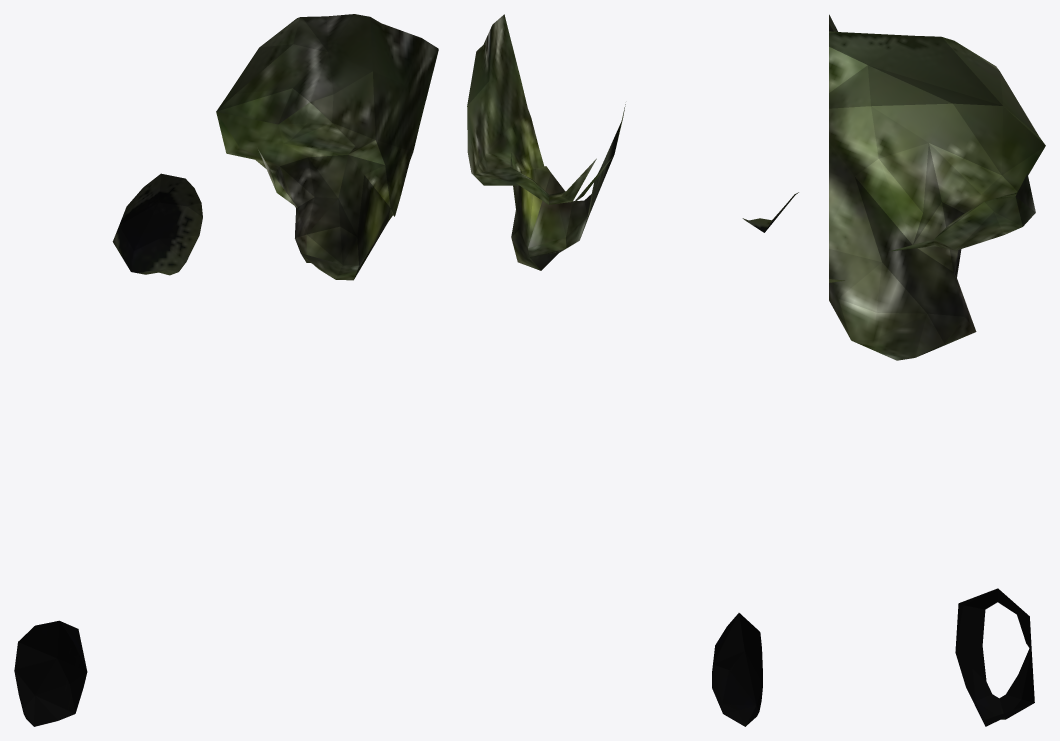
The picture shows the model from 3 angles, left to right: view 1: azimuth 30°, elevation 25°; view 2: azimuth 150°, elevation 25°; view 3: azimuth 270°, elevation 25°; orthographic projection. The views are drawn at different scales.
Size of the model in its own units: 2.44 by 4.38 by 1.06.
Materials: 1 (1 with a texture image).
